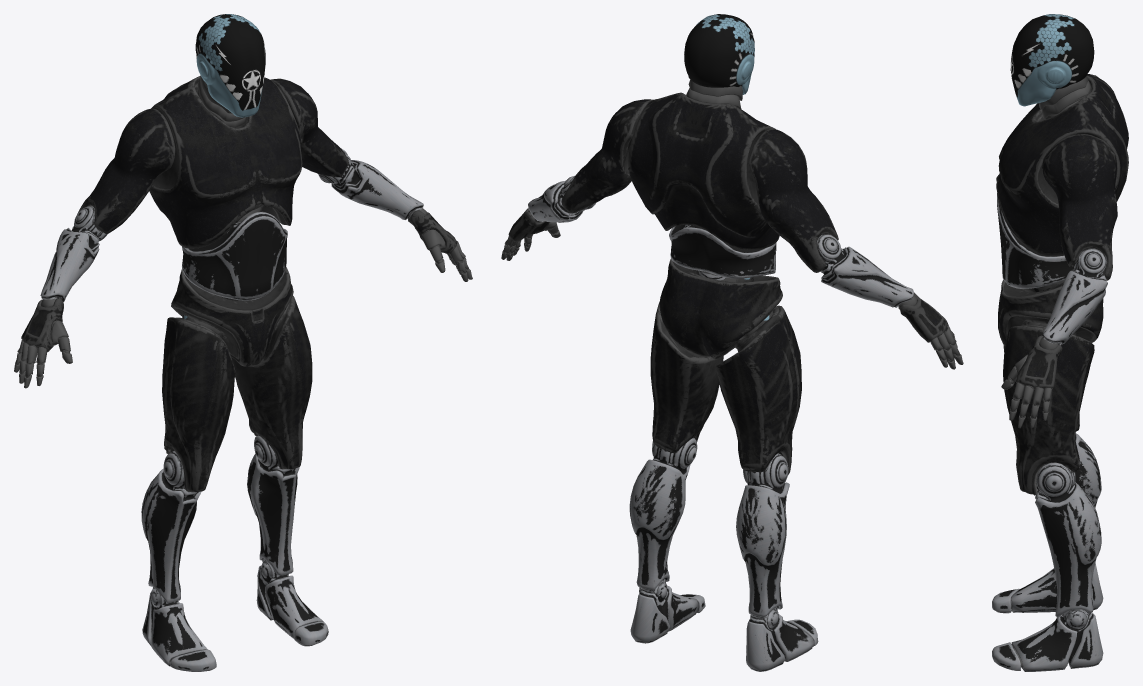
3 views of the same model, side by side, from view 1: azimuth 30°, elevation 25°; view 2: azimuth 150°, elevation 25°; view 3: azimuth 270°, elevation 25° (orthographic).
Parts seen in each view (by area): view 1: Body; view 2: Body; view 3: Body.
Boxes of the visible parts, box(x1,y1,x2,y2) form: Body: box(14, 14, 472, 671); Body: box(501, 14, 963, 671); Body: box(992, 14, 1128, 671).
Bounding box in the file's own units: 1.35 × 1.77 × 0.3564.
1 material, 1 textured.
